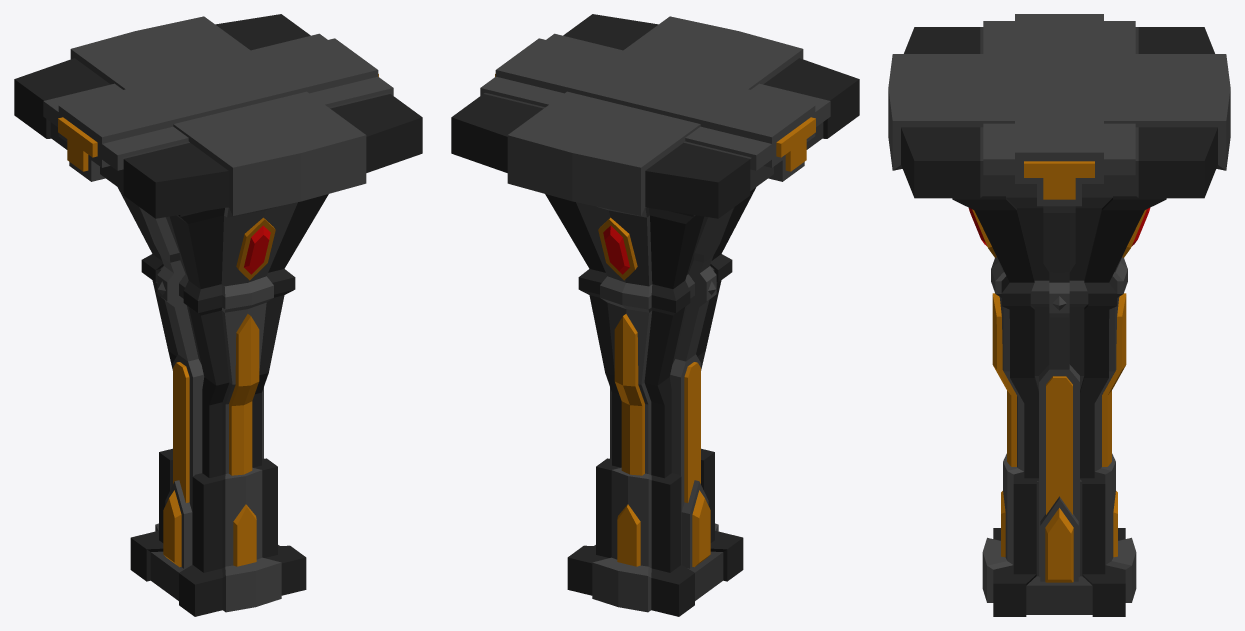
File: obj_Pillar.fbx
3 renders of one model, left to right at view 1: azimuth 30°, elevation 25°; view 2: azimuth 150°, elevation 25°; view 3: azimuth 270°, elevation 25°, orthographic. The views are drawn at different scales.
Visible parts, largest first — view 1: geo_Pillar; view 2: geo_Pillar; view 3: geo_Pillar.
Boxes of the visible parts, x1,y1,x2,y2 form: geo_Pillar: [14, 14, 422, 616]; geo_Pillar: [451, 14, 859, 616]; geo_Pillar: [888, 14, 1230, 616].
Bounding box in the file's own units: 92.54 × 93.19 × 152.
